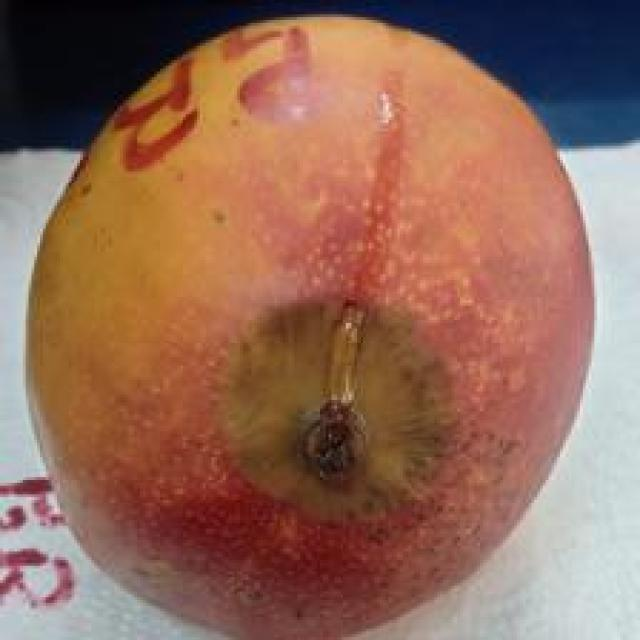Bad_Mango: (28, 16, 594, 640)
